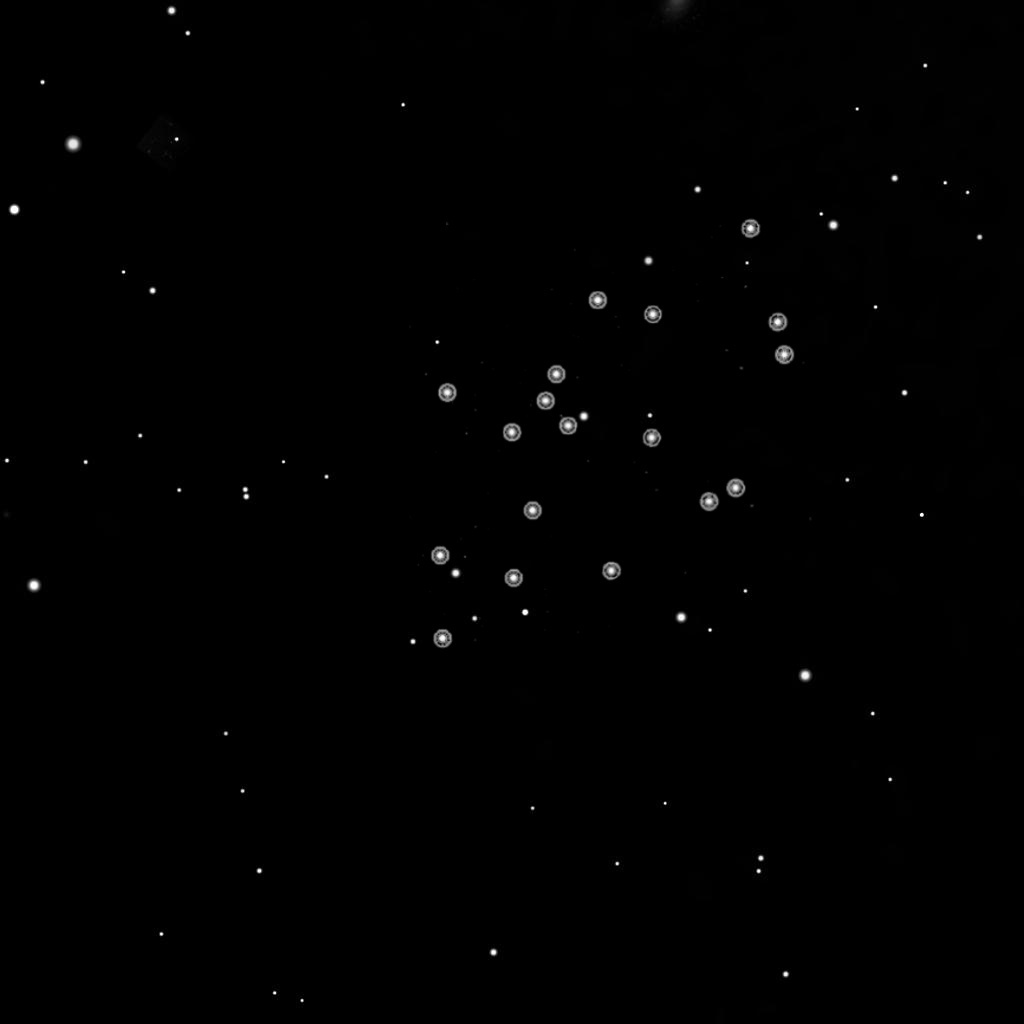canis_major: (496, 287, 664, 447)
